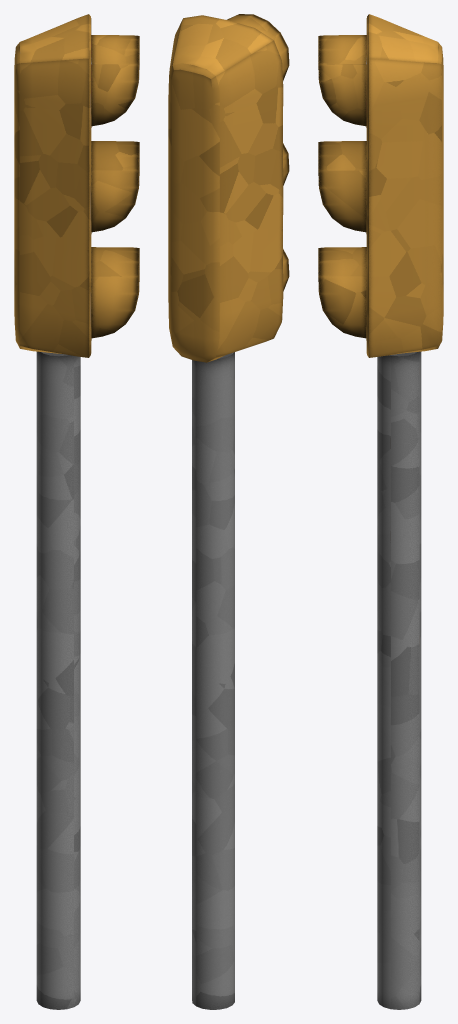
File: SEMAFORO.fbx
3 views of the same model, side by side, from view 1: azimuth 90°, elevation 25°; view 2: azimuth 150°, elevation 25°; view 3: azimuth 270°, elevation 25° (orthographic).
Visible parts, largest first — view 1: SEMAFORO_Baked; view 2: SEMAFORO_Baked; view 3: SEMAFORO_Baked.
Boxes of the visible parts, box(x1,y1,x2,y2) form: SEMAFORO_Baked: box(14, 14, 139, 1009); SEMAFORO_Baked: box(168, 14, 289, 1009); SEMAFORO_Baked: box(318, 14, 443, 1009).
Bounding box in the file's own units: 51.25 × 435 × 50.72.
Materials: 1 (1 with a texture image).
